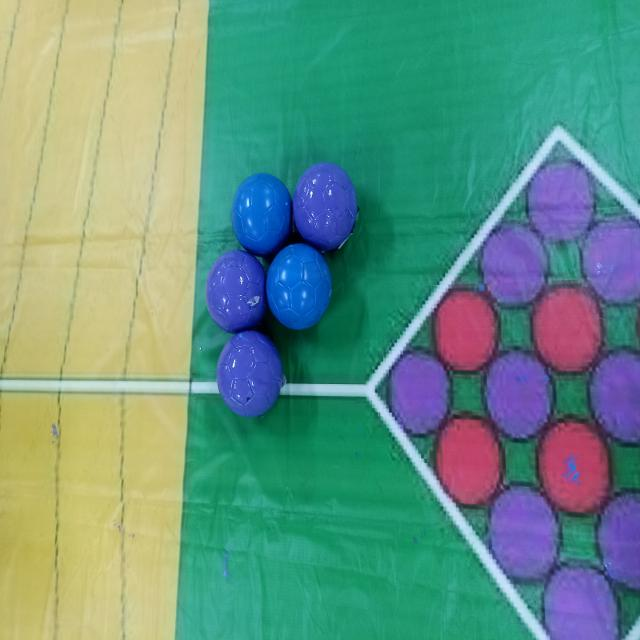blue_ball: (262, 244, 335, 339), (229, 168, 297, 254)
purple_ball: (215, 328, 286, 425), (292, 159, 359, 252), (203, 248, 266, 332)
